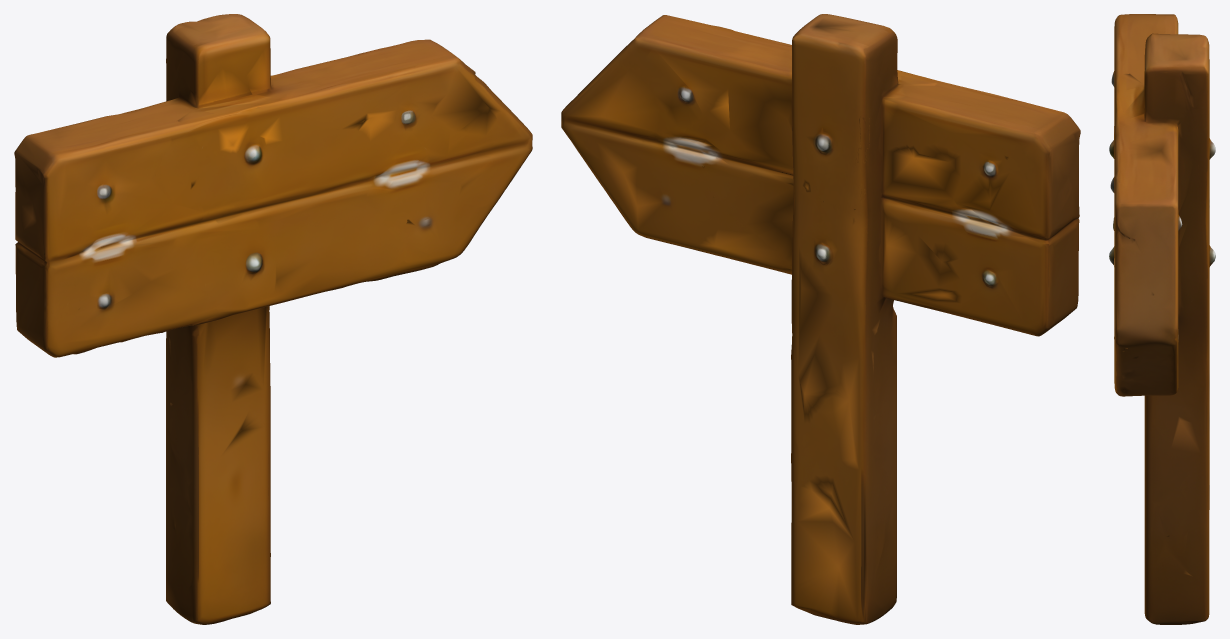
The model's file is sign.glb.
3 renders of one model, left to right at view 1: azimuth 30°, elevation 25°; view 2: azimuth 150°, elevation 25°; view 3: azimuth 270°, elevation 25°, orthographic. The views are drawn at different scales.
Visible parts, largest first — view 1: node_0; view 2: node_0; view 3: node_0.
Part boxes in pixels (x1,y1,x2,y2): node_0: (14, 14, 532, 624); node_0: (561, 14, 1080, 624); node_0: (1109, 14, 1215, 624).
Size of the model in its own units: 0.9119 by 1.03 by 0.1771.
Materials: 1 (1 with a texture image).
